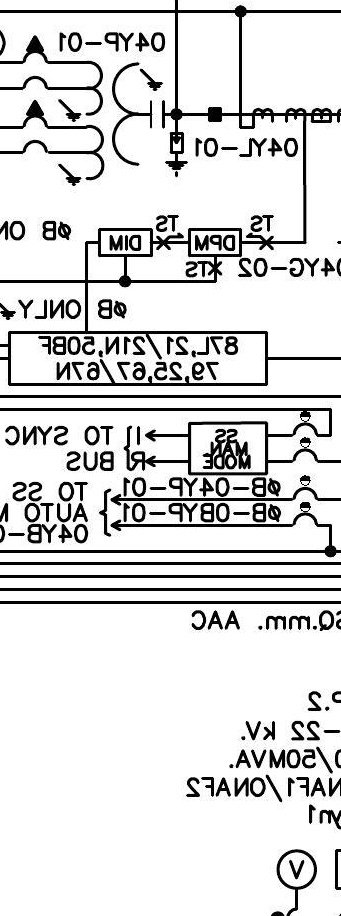115_cvt_1p: (20, 35, 166, 187)
115_la: (164, 132, 189, 178)
DIM: (98, 228, 153, 258)
DPM: (188, 228, 242, 257)
ss_man_mode: (188, 421, 268, 476)
v_m: (276, 849, 318, 891)
